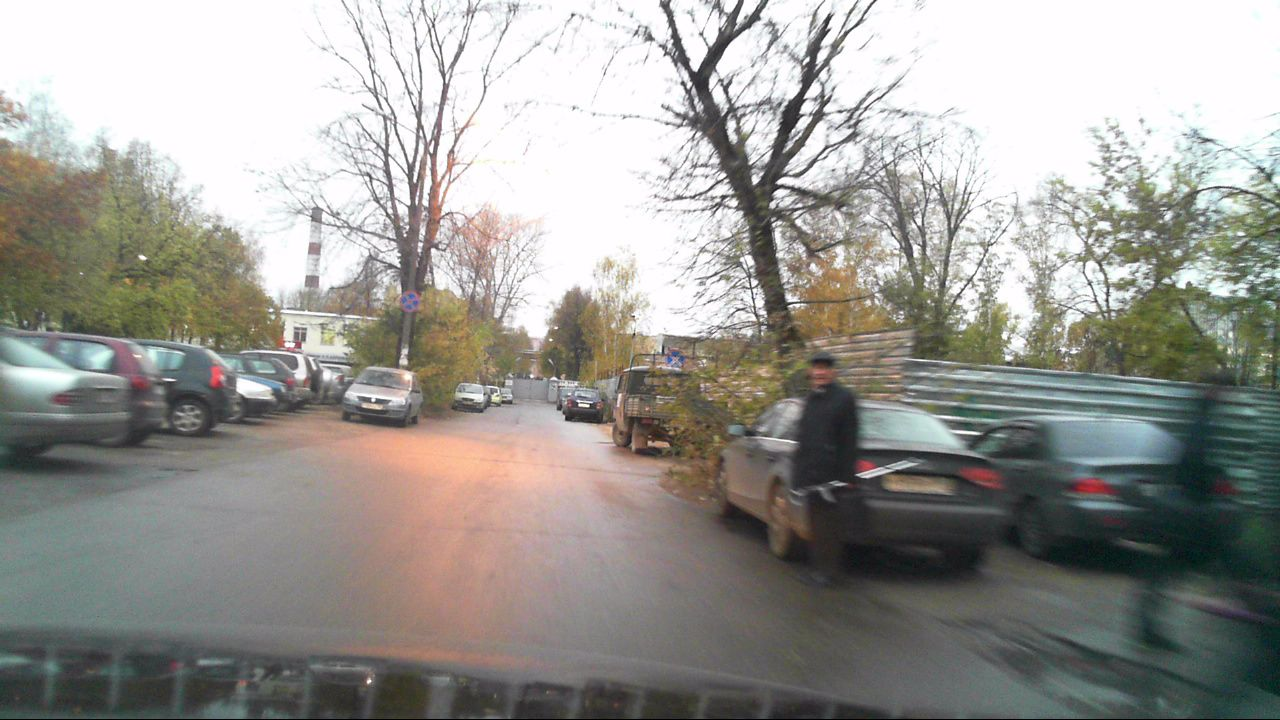No Parking: (397, 289, 420, 313)
